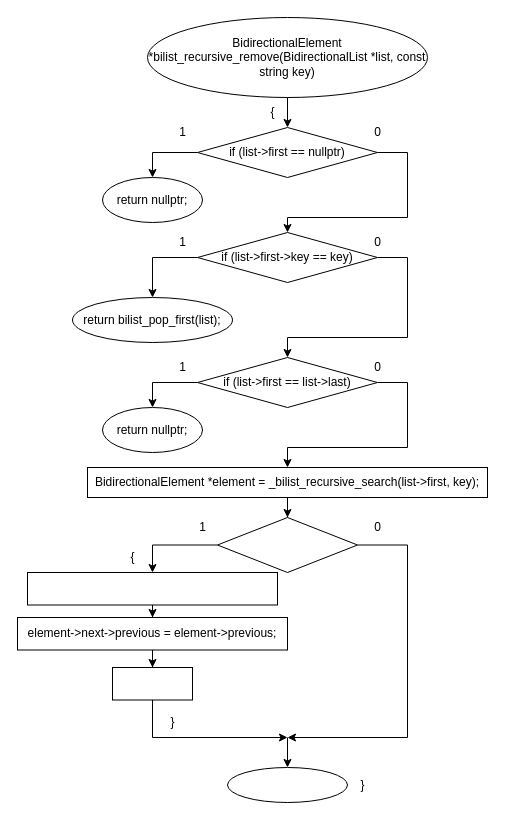
Some shapes in this 505 by 820 pixel diagram are drawn without their labels. Each missing label, with the centre of its shape:
element->previous->next = element->next;: the point at 152,588
if (element != nullptr): the point at 287,544
list->size--;: the point at 152,683
return element;: the point at 287,784
